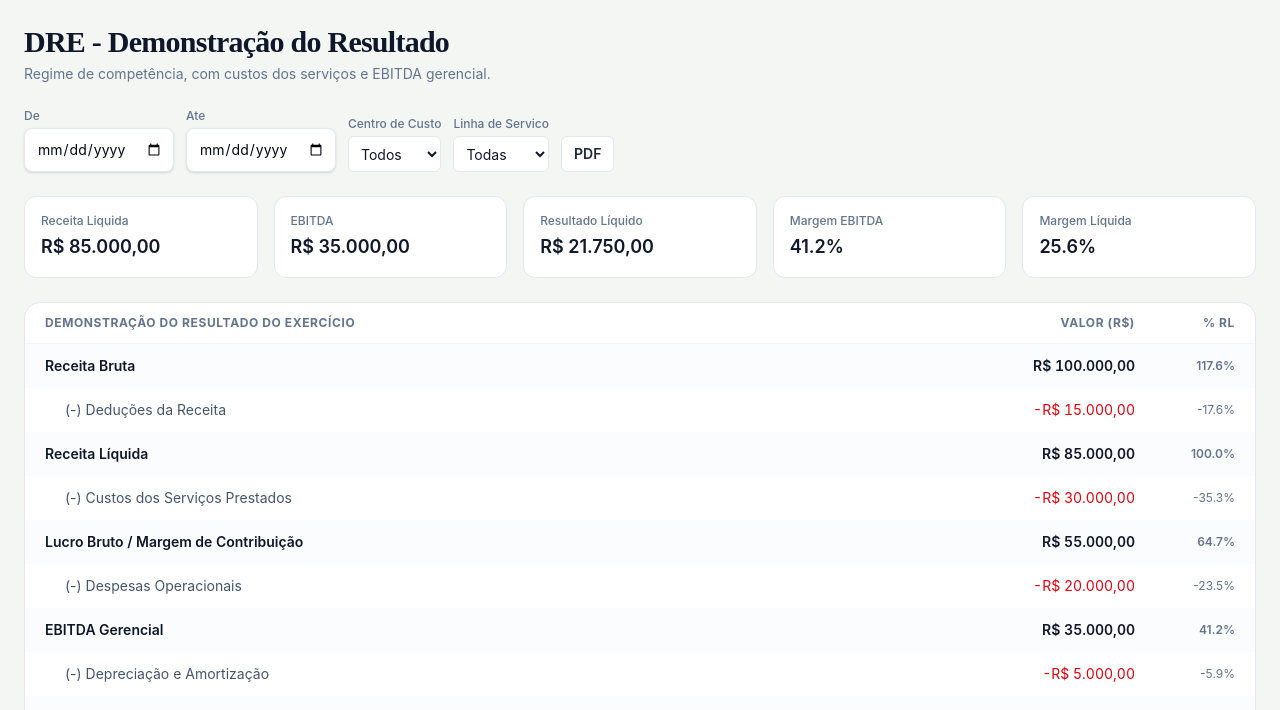
Test case: DrePage › clear filters button appears when filters are set
The image size is (1280, 710).
Expected: the button "Limpar" is not shown
Type "2026-01-01" into the 1st date field.
click(99, 150); type("2026-01-01")  # box 24,128 -> 174,172
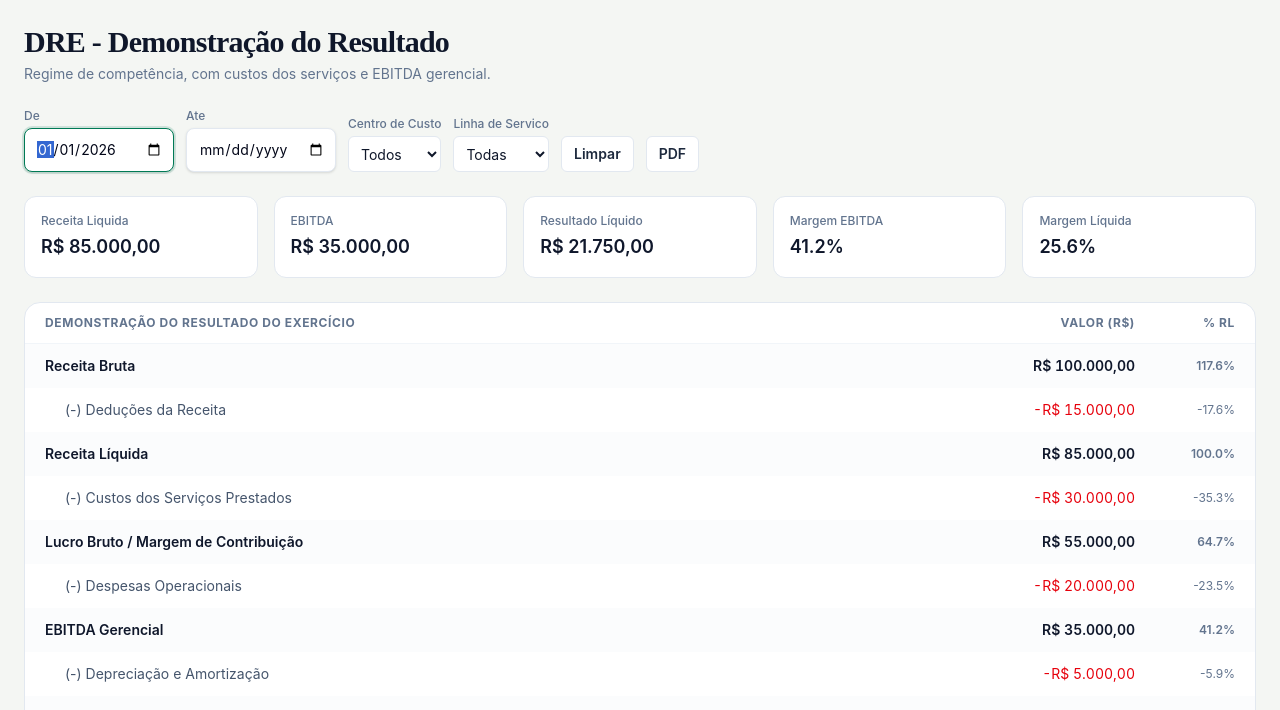
Now the button "Limpar" is shown, box 561,136 -> 634,172
